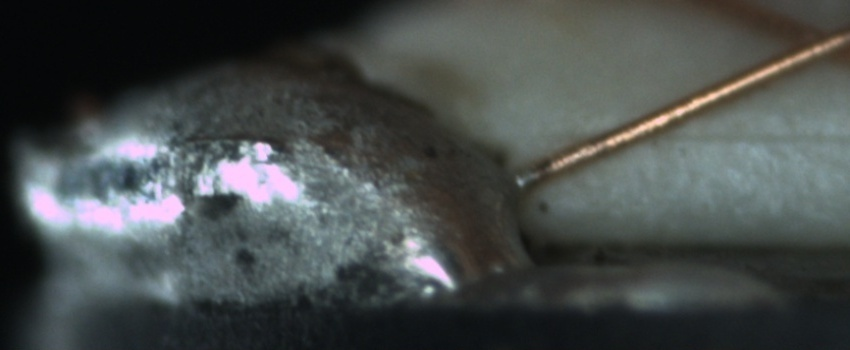CL: (762, 6, 850, 68)
DL: (639, 106, 849, 168)
TS: (512, 162, 546, 191)
